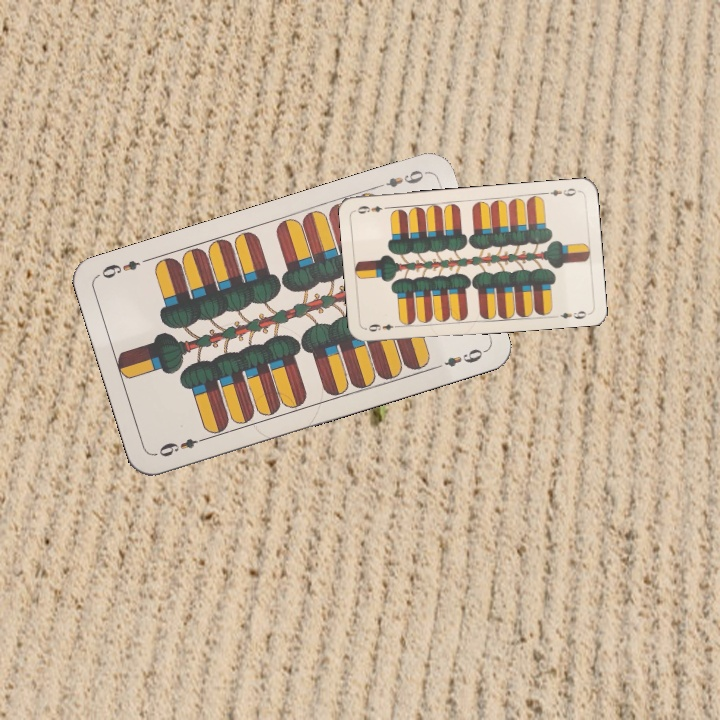E9: (152, 433, 210, 460), (372, 166, 430, 191), (541, 184, 581, 199), (362, 320, 403, 334)
